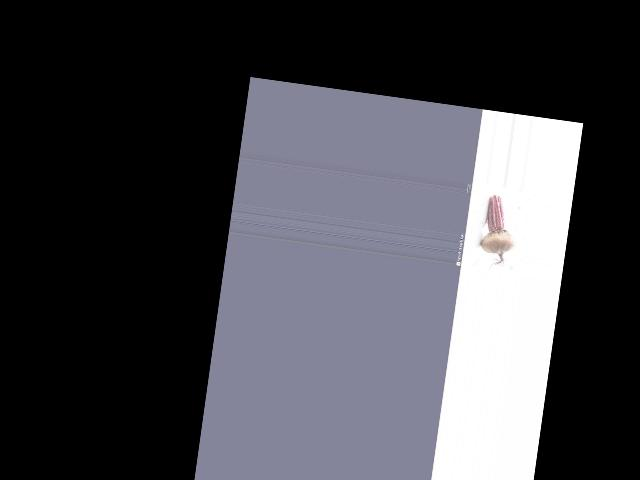beet: (477, 193, 520, 270)
